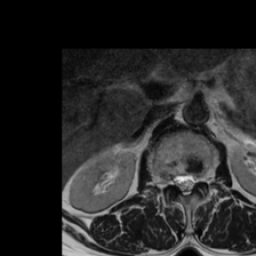CCS_normal: (182, 167, 188, 198)
LFS_stenosis: (198, 168, 204, 187)
LLS_normal: (188, 169, 196, 191)
RFS_stenosis: (166, 169, 175, 190)
RLS_normal: (175, 168, 182, 192)
